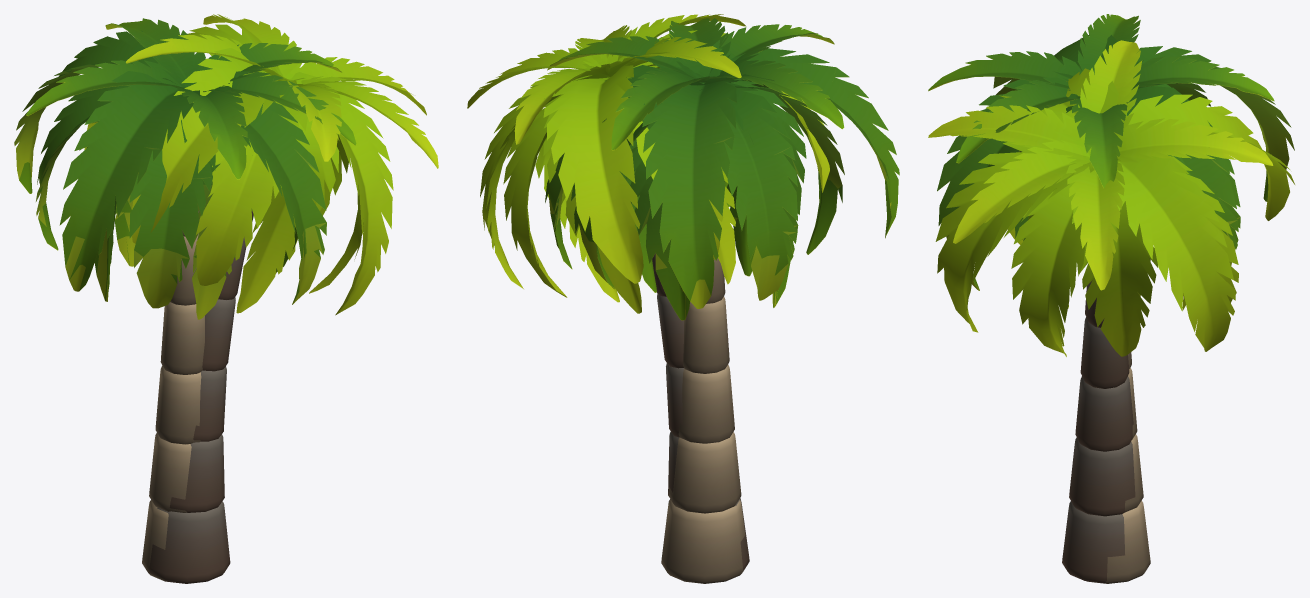
Rendered from coconut_tree.fbx.
3 renders of one model, left to right at view 1: azimuth 30°, elevation 25°; view 2: azimuth 150°, elevation 25°; view 3: azimuth 270°, elevation 25°, orthographic.
Parts seen in each view (by area): view 1: coconut1, coconut3, coconut2; view 2: coconut1, coconut3, coconut2; view 3: coconut3, coconut1, coconut2.
Boxes of the visible parts, bbox=[...] form: coconut1: bbox=[14, 18, 356, 572]; coconut3: bbox=[84, 14, 438, 583]; coconut2: bbox=[14, 23, 355, 583]; coconut1: bbox=[545, 18, 899, 581]; coconut3: bbox=[467, 14, 829, 570]; coconut2: bbox=[546, 21, 899, 583]; coconut3: bbox=[928, 40, 1294, 583]; coconut1: bbox=[928, 14, 1294, 581]; coconut2: bbox=[928, 17, 1294, 583].
Size of the model in its own units: 3.63 by 4.57 by 2.97.
Materials: 1 (1 with a texture image).
